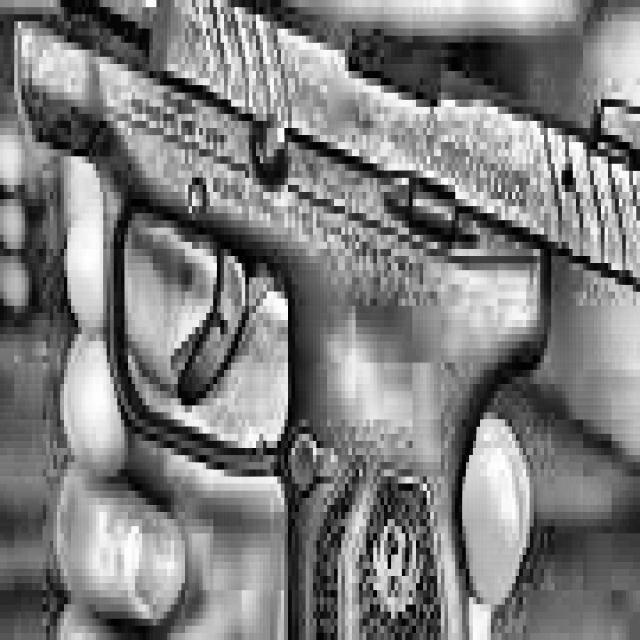Ruger: (10, 0, 640, 640)
